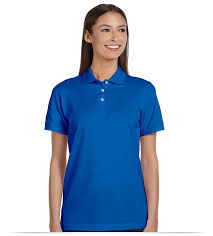C_polo shirt: (36, 69, 174, 236)
